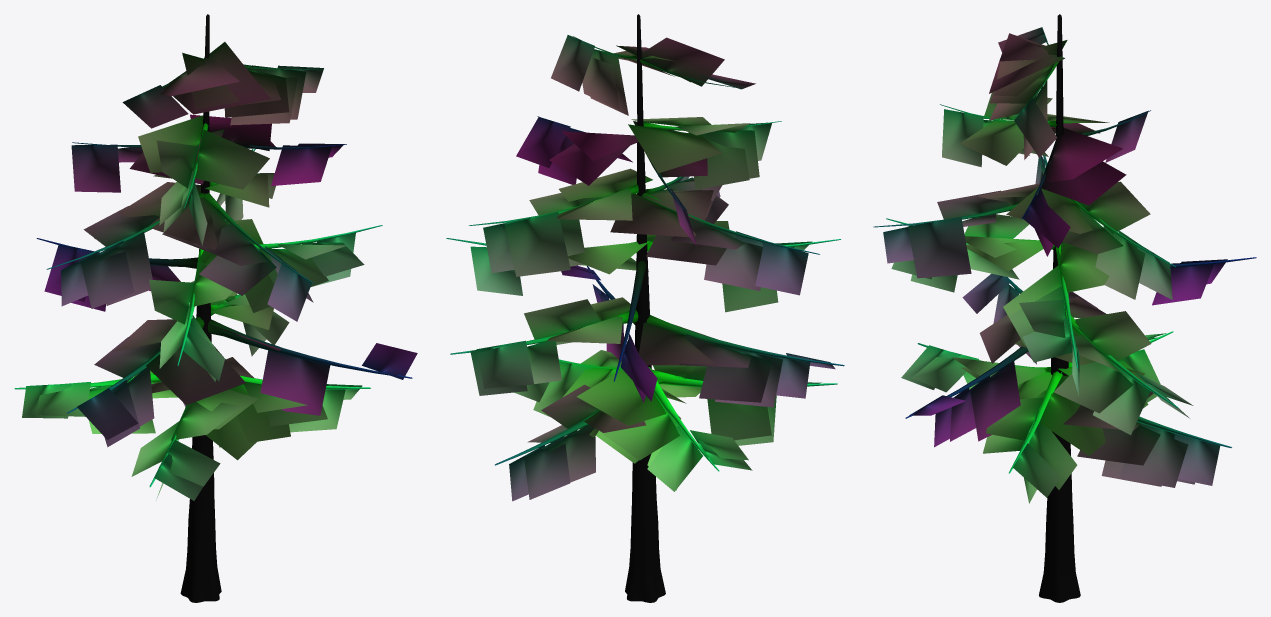
The model's file is pine.obj.
The picture shows the model from 3 angles, left to right: view 1: azimuth 30°, elevation 25°; view 2: azimuth 150°, elevation 25°; view 3: azimuth 270°, elevation 25°; orthographic projection.
Visible parts, largest first — view 1: Stylized_Bark_001_COLOR, no texture; view 2: Stylized_Bark_001_COLOR, no texture; view 3: Stylized_Bark_001_COLOR, no texture.
Boxes of the visible parts, x1,y1,x2,y2 form: Stylized_Bark_001_COLOR: (22,42,417,500); no texture: (14,14,412,602); Stylized_Bark_001_COLOR: (470,35,835,501); no texture: (446,14,844,602); Stylized_Bark_001_COLOR: (883,27,1227,503); no texture: (873,14,1256,602).
Size of the model in its own units: 64.77 by 100 by 59.89.
